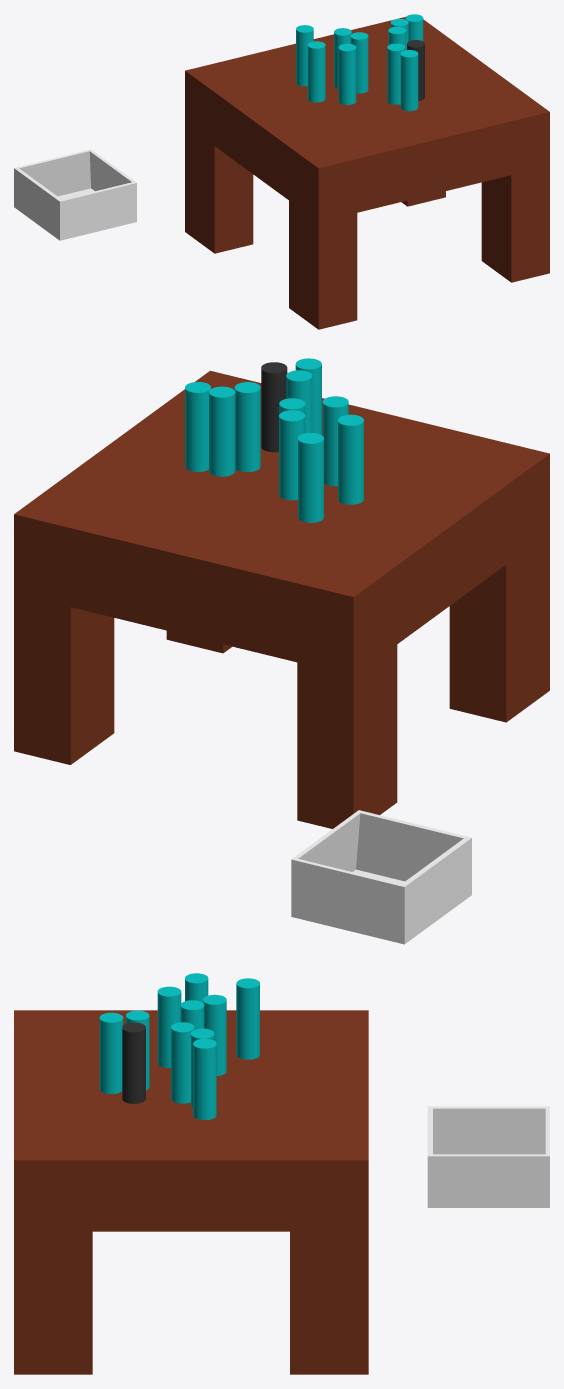
Rendered from can_world_11_cans.dae.
3 renders of one model, top to bottom at view 1: azimuth 30°, elevation 25°; view 2: azimuth 150°, elevation 25°; view 3: azimuth 270°, elevation 25°, orthographic. The views are drawn at different scales.
Parts seen in each view (by area): view 1: base (×13), SketchUp (×2); view 2: base (×14), SketchUp (×2); view 3: base (×13), SketchUp (×2).
Boxes of the visible parts, x1,y1,x2,y2 form: base (×13): [185, 14, 549, 329]; SketchUp (×2): [14, 149, 136, 240]; base (×14): [14, 358, 549, 828]; SketchUp (×2): [291, 810, 471, 944]; base (×13): [14, 973, 368, 1374]; SketchUp (×2): [427, 1106, 549, 1207].
Size of the model in its own units: 1.3 by 1.36 by 0.811.
